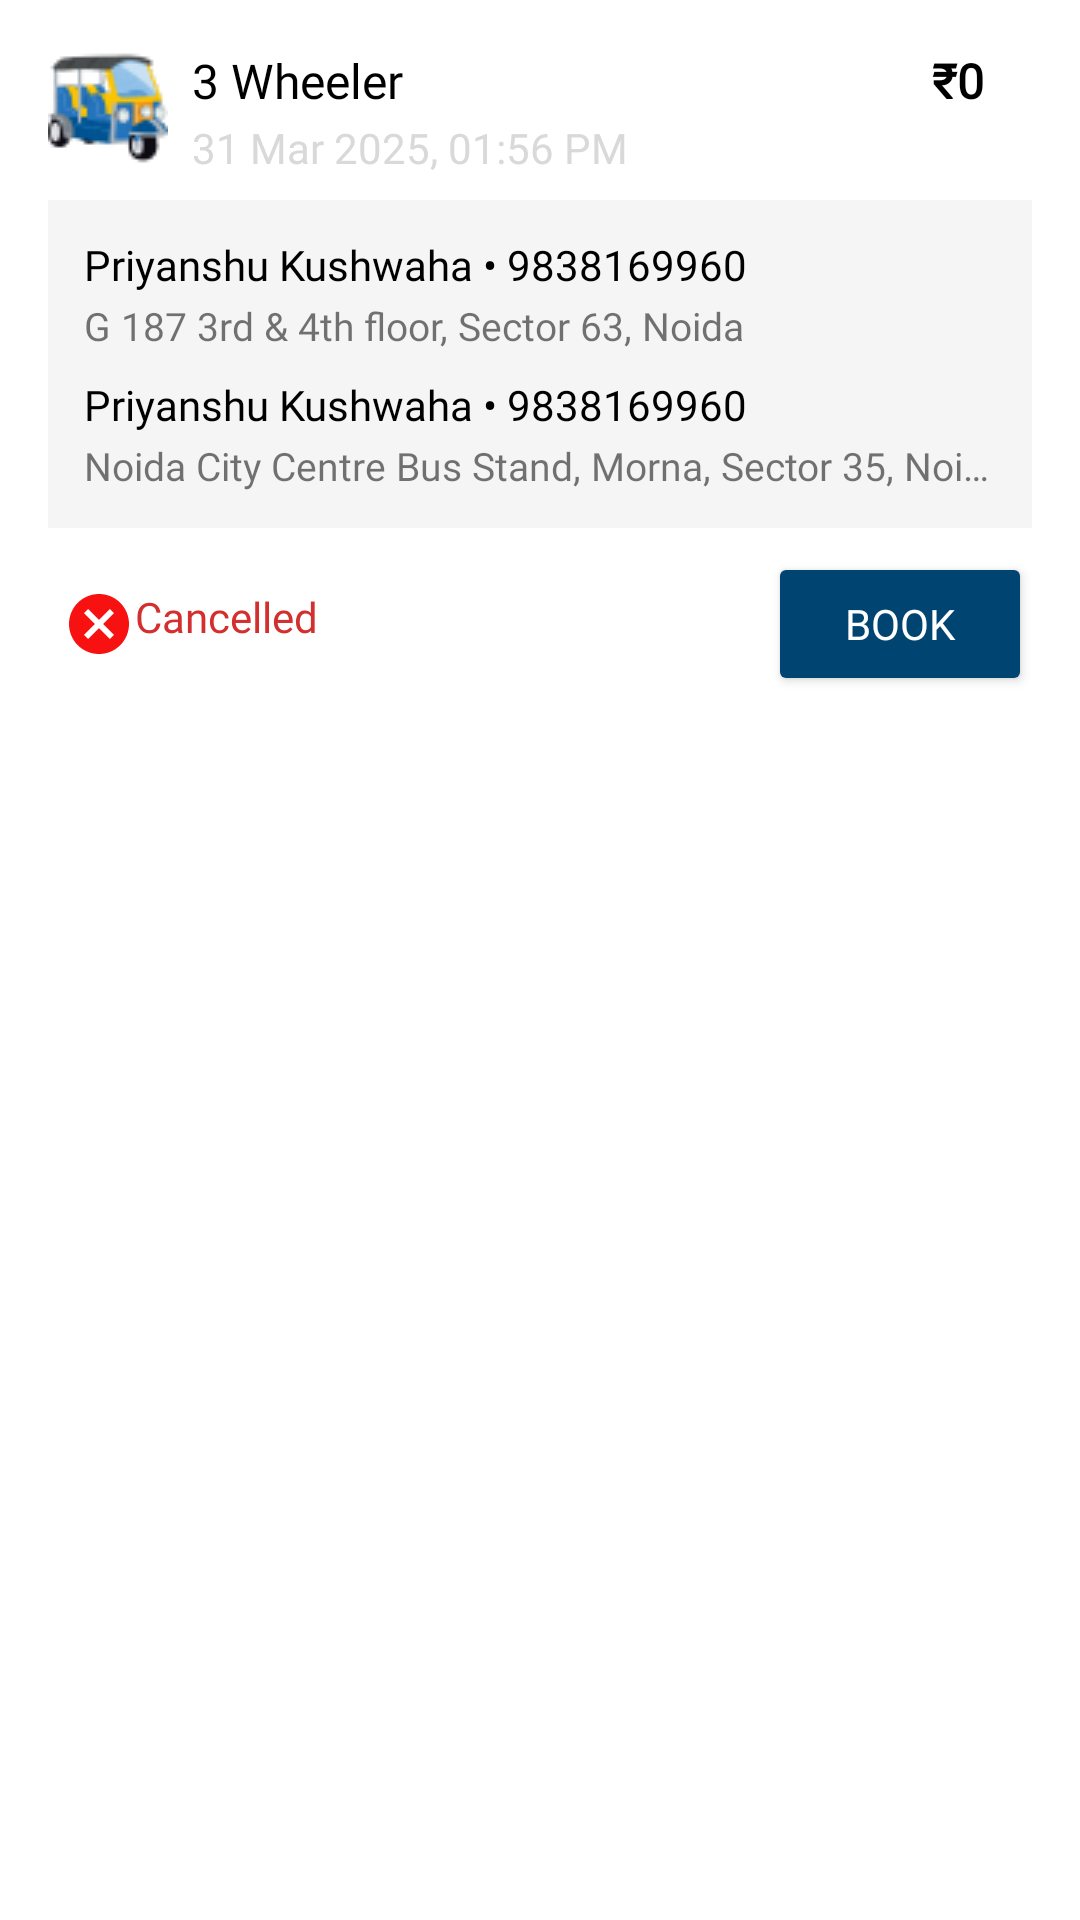

Icons on this 1080w x 1920h Android screen, each with the point to tap as (x=x, y=y):
vehicle: (x=108, y=108)
